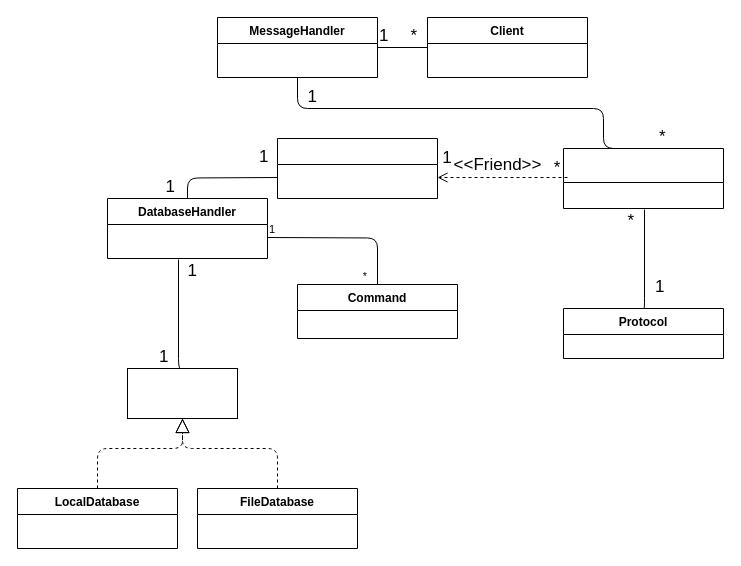
This 741x566 diagram has some shape labels left out. The centre of each missing label's shape, as x and y in pixels:
"Connection" goes at (643,178).
"Server" goes at (357,168).
"«interface» Database" goes at (182,393).
